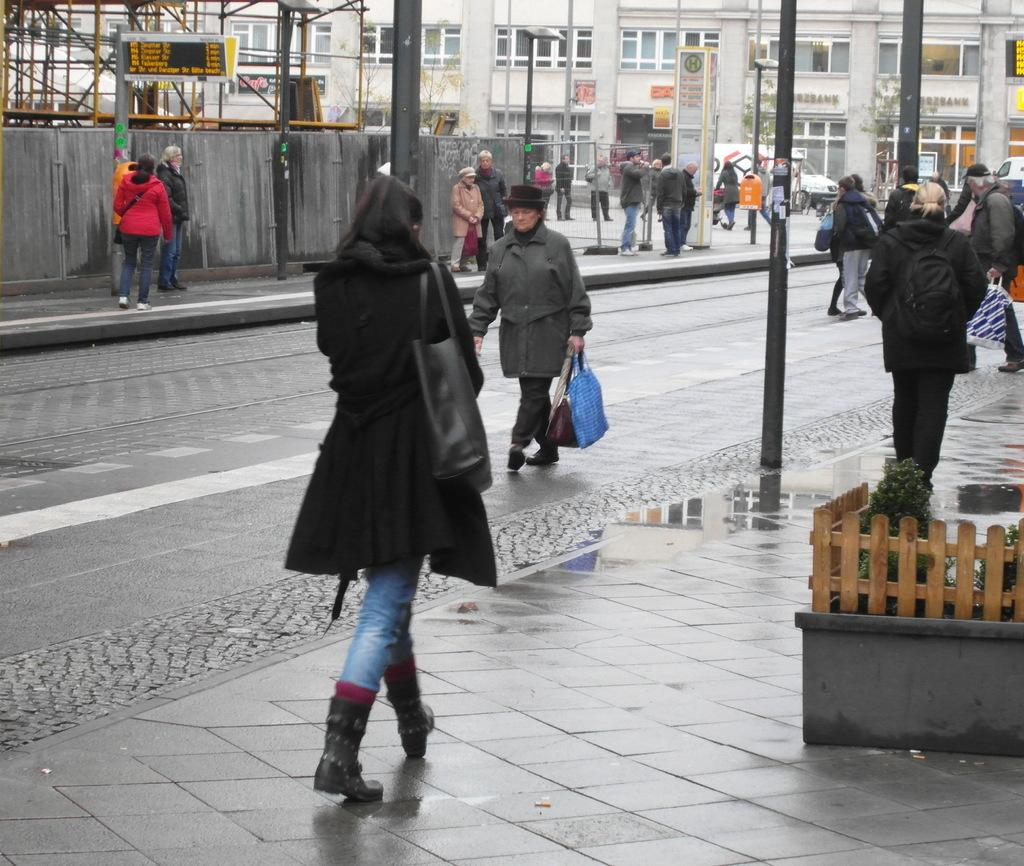Luggage-and-bags: (414, 255, 495, 497), (884, 229, 972, 352), (564, 348, 609, 453), (545, 341, 582, 450), (969, 267, 1013, 355), (115, 177, 161, 242), (989, 188, 1023, 269), (841, 205, 888, 251), (811, 207, 835, 256), (894, 182, 914, 225), (462, 219, 483, 259), (582, 169, 596, 182)
